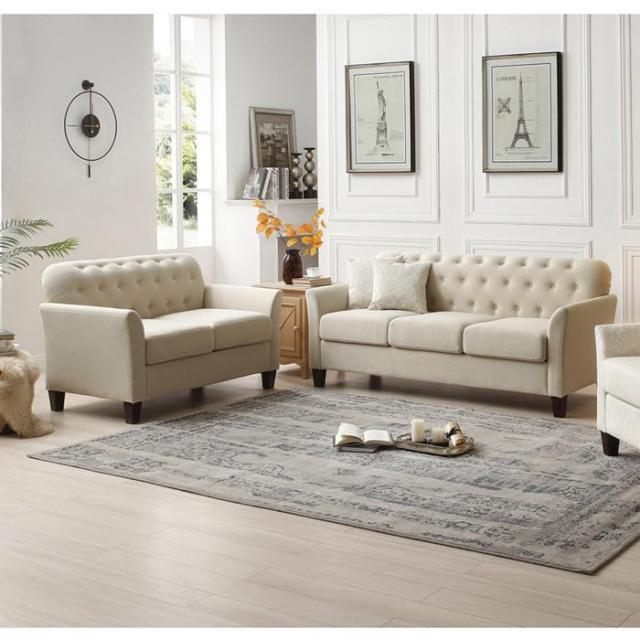sofa: (304, 250, 616, 418), (39, 252, 282, 424)
